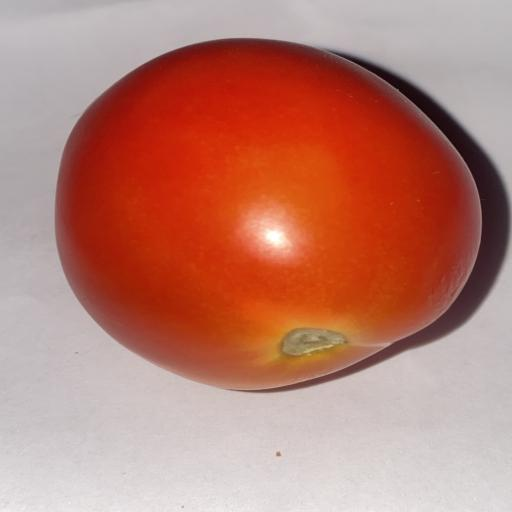ripe: (56, 39, 481, 389)
